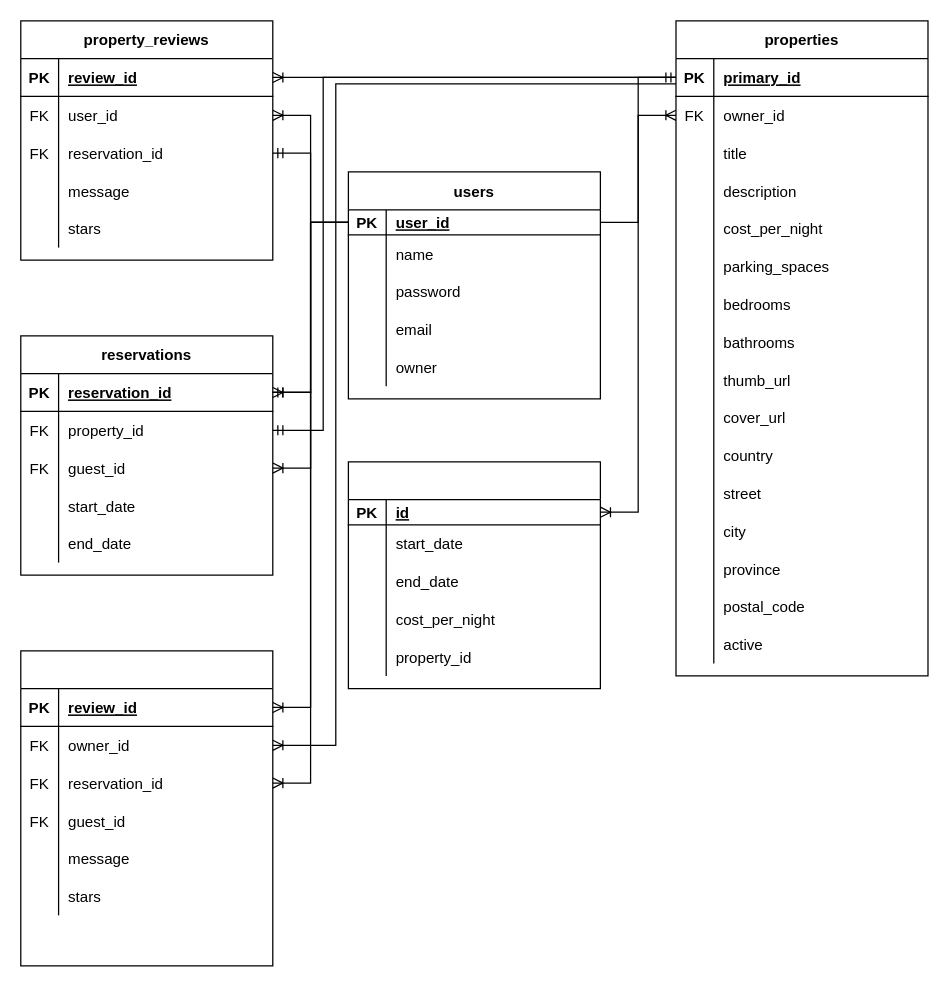
This 949x987 diagram has some shape labels left out. The shapes that lost their labels are listed below. From the top down, each one's box as (x1, y1, x2, y2) in pixels, then its label:
(347, 461, 600, 689): rates
(20, 650, 273, 966): guest_reviews
